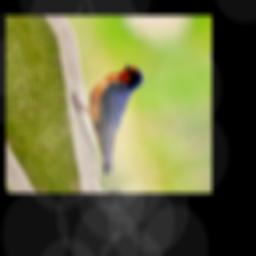Swallow: (58, 59, 178, 179)
